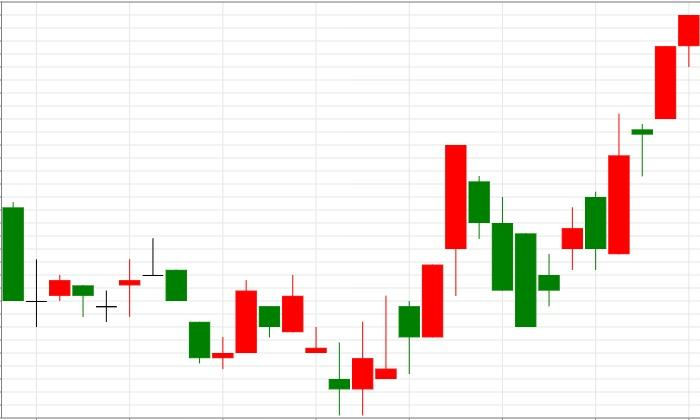bullish_engulfing_rise: (282, 275, 374, 416)
morning_star_rise: (142, 238, 256, 369)
